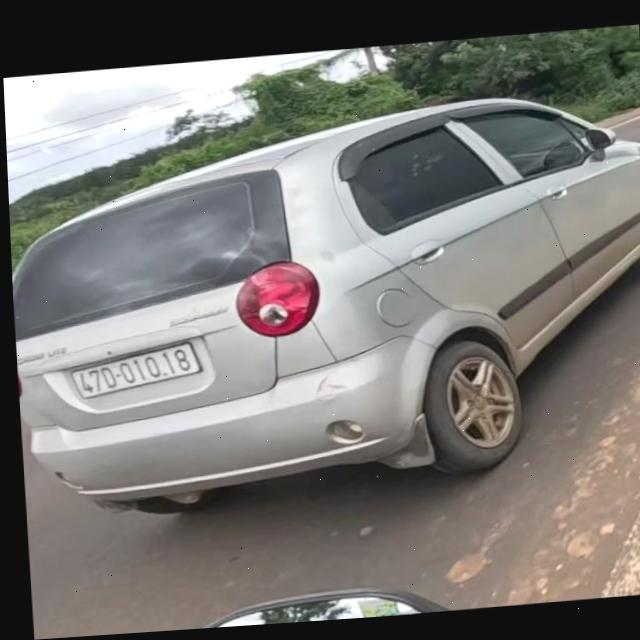car: (5, 74, 640, 535)
plate: (64, 338, 204, 402)
